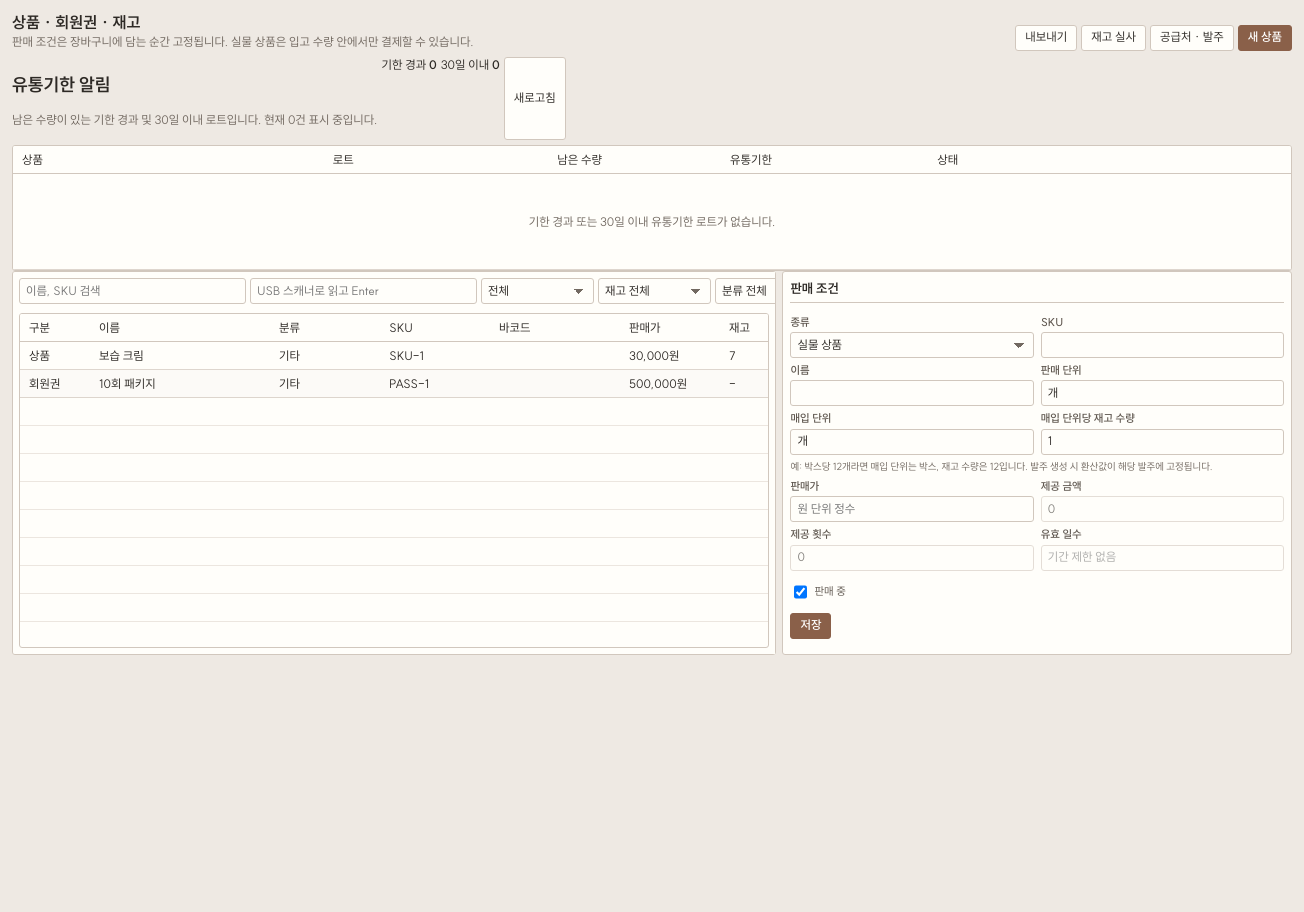
it: InventoryPage › 상품 목록을 보여 주고 검색과 구분 필터로 좁힌다
This screenshot has width=1304, height=912.
Expected: the text "보습 크림" is shown, top-left (90, 342), bottom-right (270, 370)
Expected: the text "30,000원" is shown, top-left (620, 342), bottom-right (720, 370)
Step 1. Type "pass" into the field named "상품 검색" → (132, 292), box top-left (19, 278), bottom-right (246, 304)
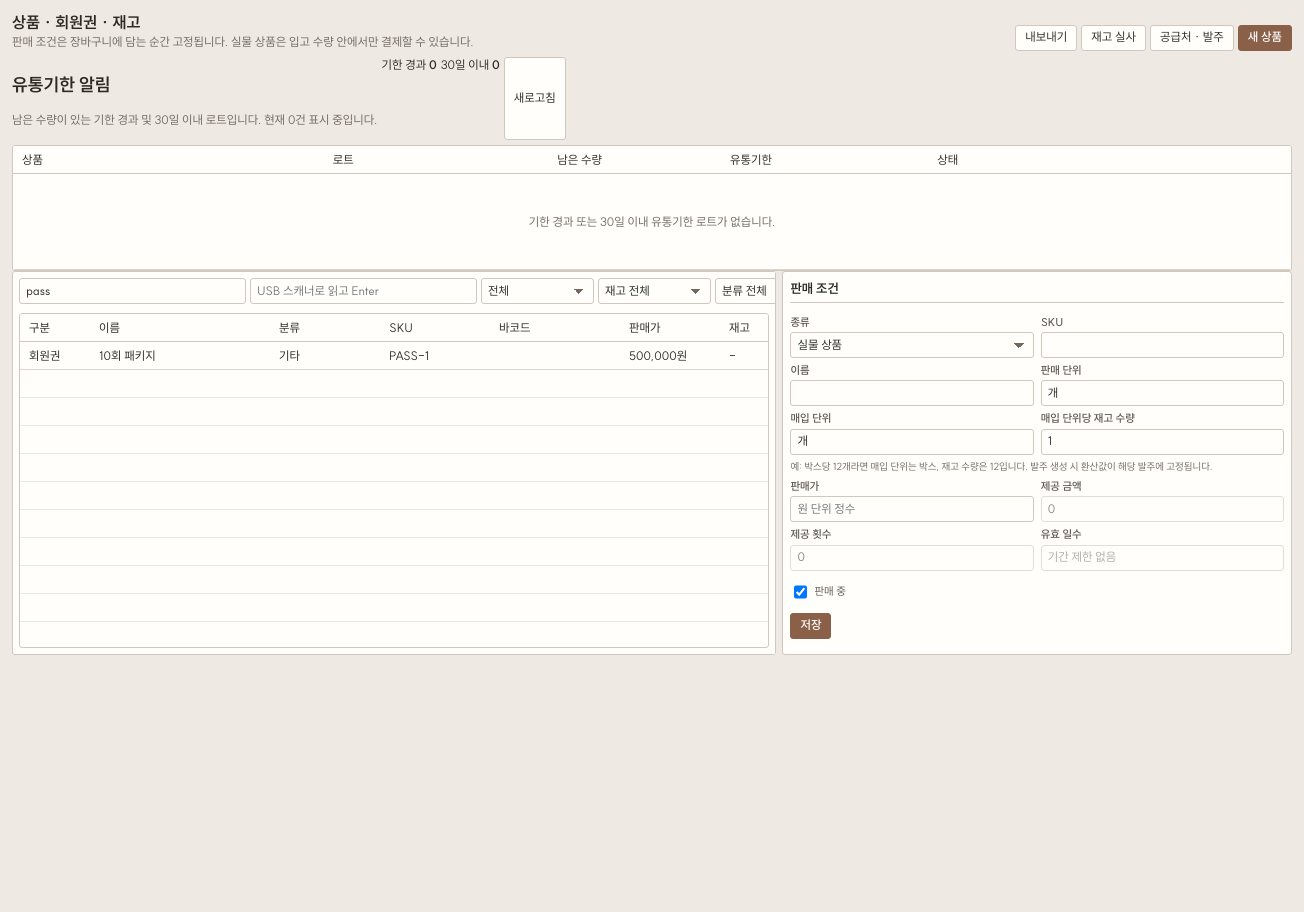
Expected: the text "10회 패키지" is shown, top-left (90, 342), bottom-right (270, 370)
Expected: the text "보습 크림" is gone
Step 2. Clear the field named "상품 검색" → (132, 292), box top-left (19, 278), bottom-right (246, 304)
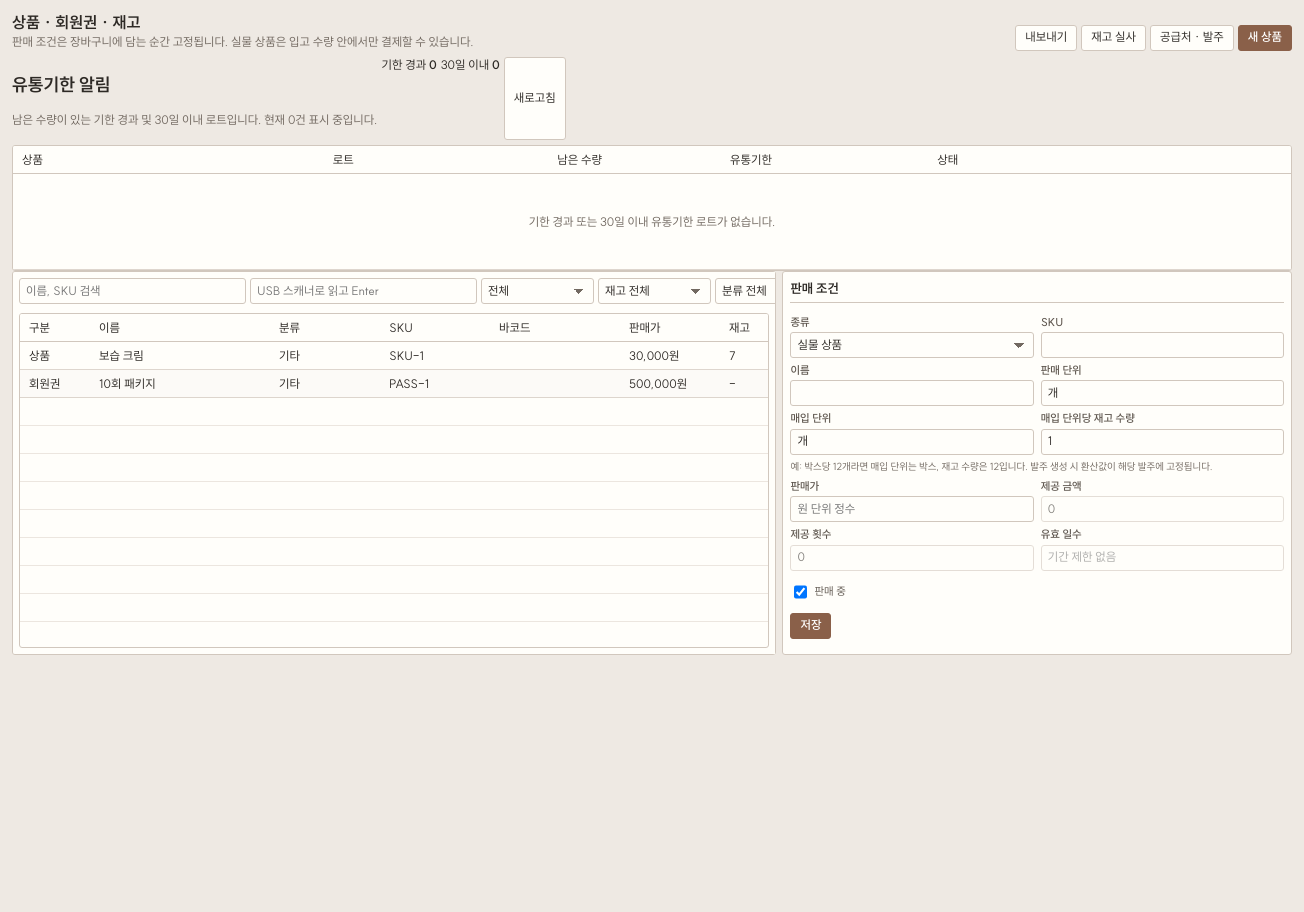
Step 3. Select "실물 상품" in the dropdown named "구분 필터" → (538, 292), box top-left (481, 278), bottom-right (594, 304)
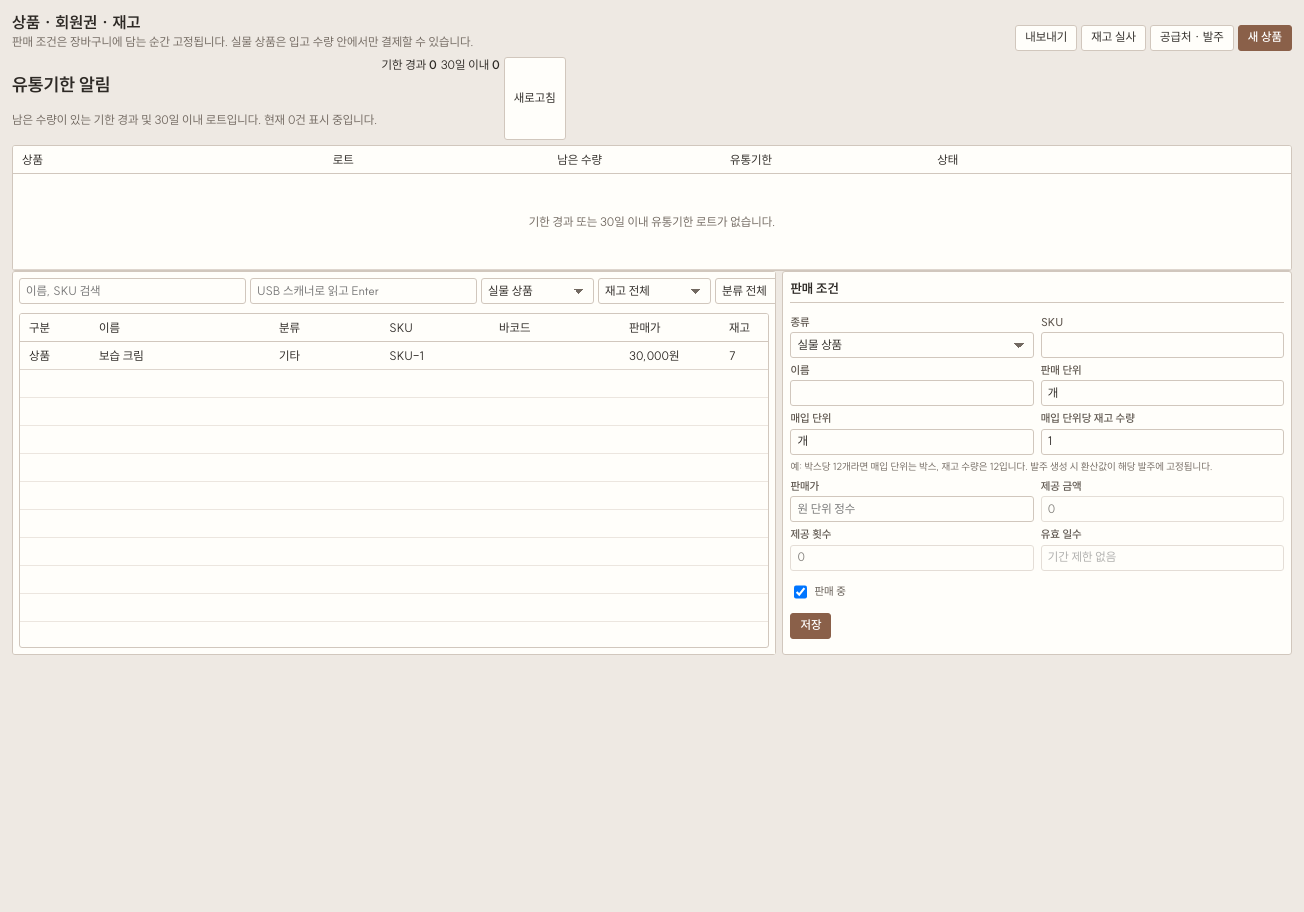
Expected: the text "10회 패키지" is gone
